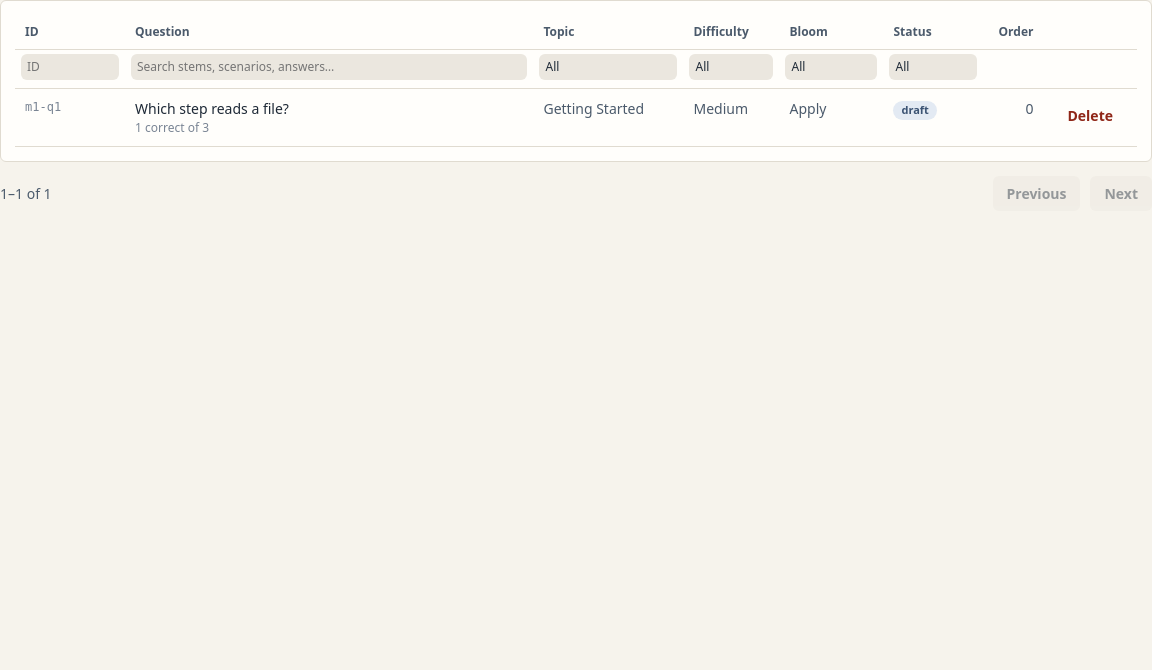
Test: the house form › advises, without blocking Save, when the scenario asks a question
Click the text "Which step reads a file?". click: (329,118)
box: [125,88,534,146]
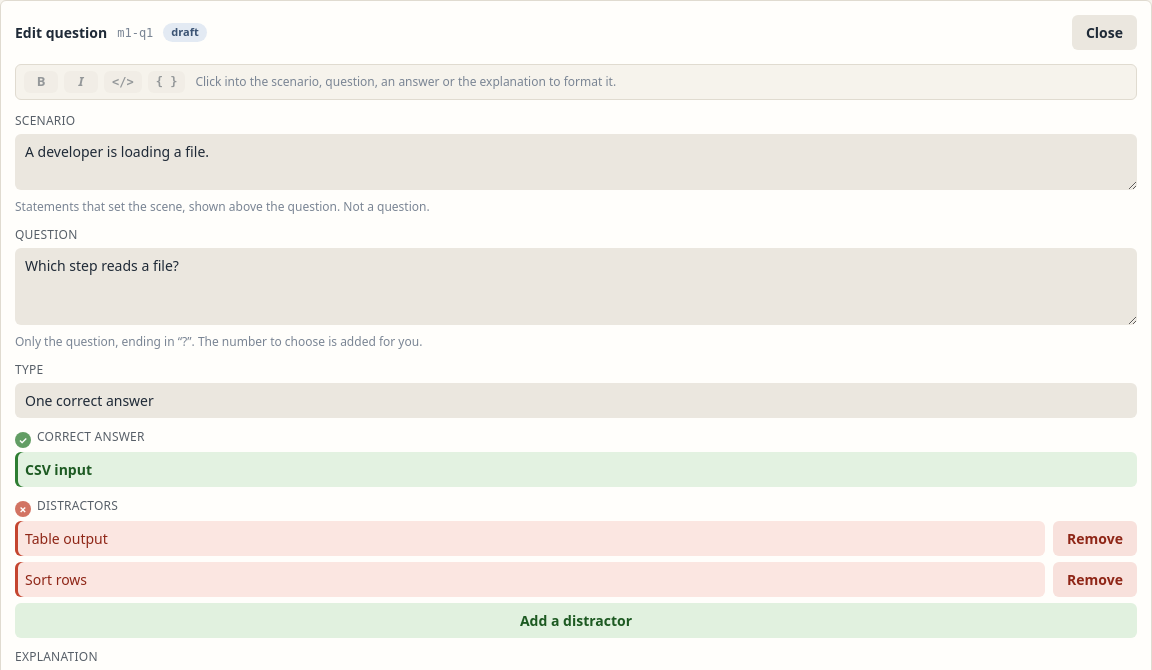
Type " Why?" into the text box showing "A developer is loading a file.". click: (576,162)
box: [15,134,1137,190]
(page scrolled)
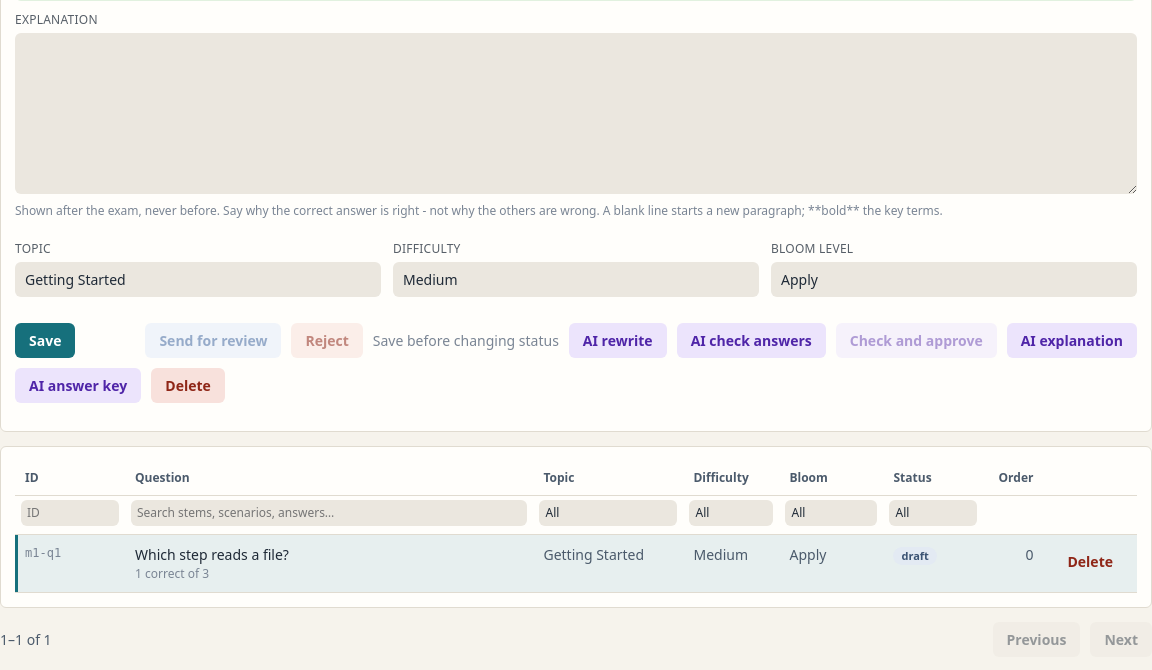
Result: the button "Save" is enabled at [15,323,75,358]
